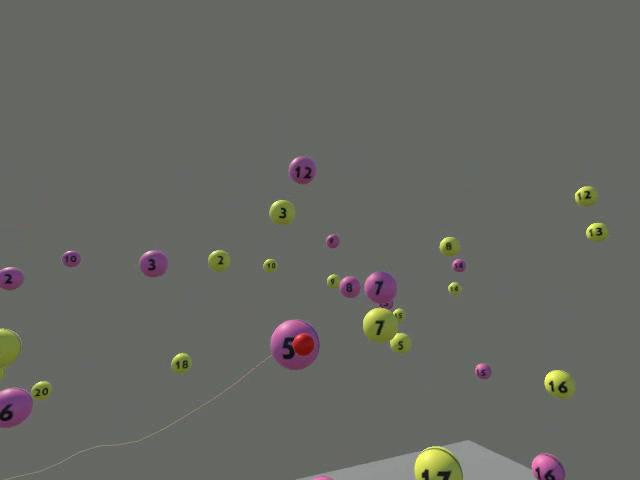ball_02_pink: (0, 266, 24, 290)
ball_02_yellow: (207, 249, 231, 272)
ball_03_pink: (139, 249, 167, 277)
ball_03_yellow: (269, 199, 294, 224)
ball_05_pink: (269, 318, 321, 370)
ball_05_yellow: (389, 332, 410, 353)
ball_07_pink: (363, 270, 396, 305)
ball_07_yellow: (362, 307, 397, 343)
ball_08_pink: (339, 276, 360, 298)
ball_08_yellow: (438, 236, 459, 256)
ball_09_pink: (326, 234, 340, 249)
ball_09_yellow: (326, 273, 339, 287)
ball_10_pink: (62, 250, 81, 267)
ball_10_yellow: (263, 258, 277, 272)
ball_12_pink: (288, 155, 317, 184)
ball_12_yellow: (574, 185, 597, 207)
ball_13_yellow: (585, 222, 608, 242)
ball_14_pink: (451, 258, 465, 272)
ball_14_yellow: (447, 281, 461, 295)
ball_15_pink: (474, 363, 491, 379)
ball_16_yellow: (543, 369, 575, 398)
ball_18_yellow: (170, 352, 192, 373)
ball_20_yellow: (30, 380, 52, 400)
ball_unknown: (413, 446, 462, 479), (0, 387, 32, 427), (530, 452, 565, 479), (0, 328, 22, 366), (379, 301, 394, 311), (393, 308, 404, 321), (0, 366, 6, 383), (311, 475, 333, 479)
user_cursor: (293, 333, 315, 355)
